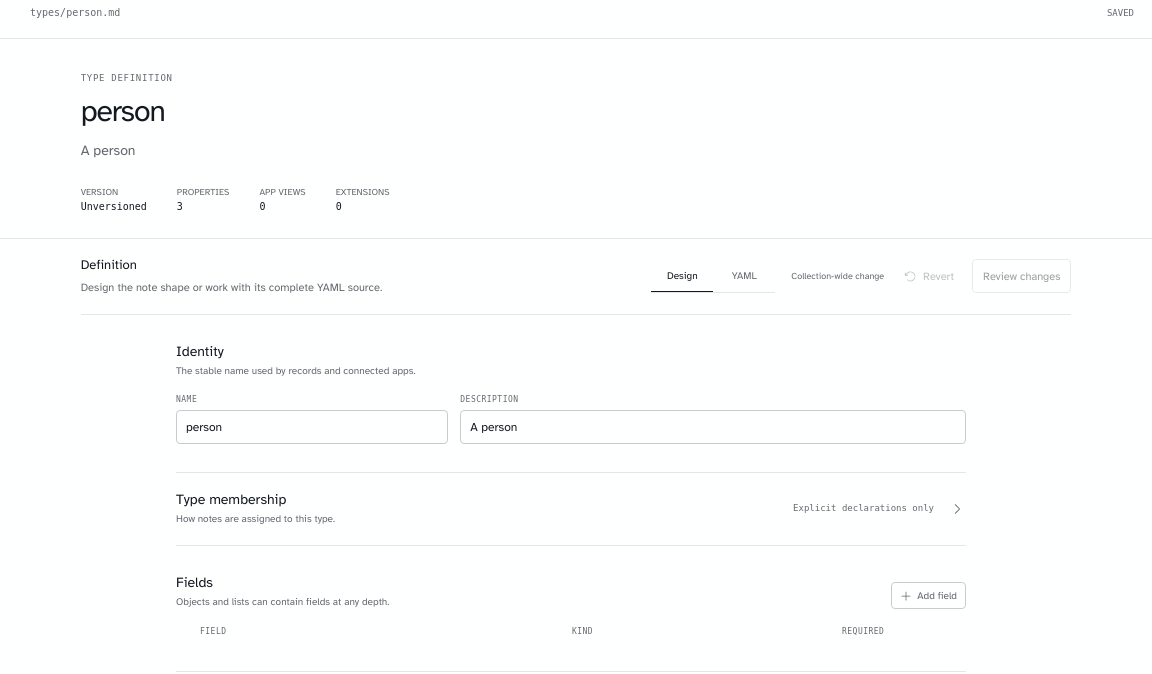
Test: recursive type builder › previews membership changes as visual rules are edited
Click the heading "Type membership" at (231, 499), box [176,491,964,525]
(page scrolled)
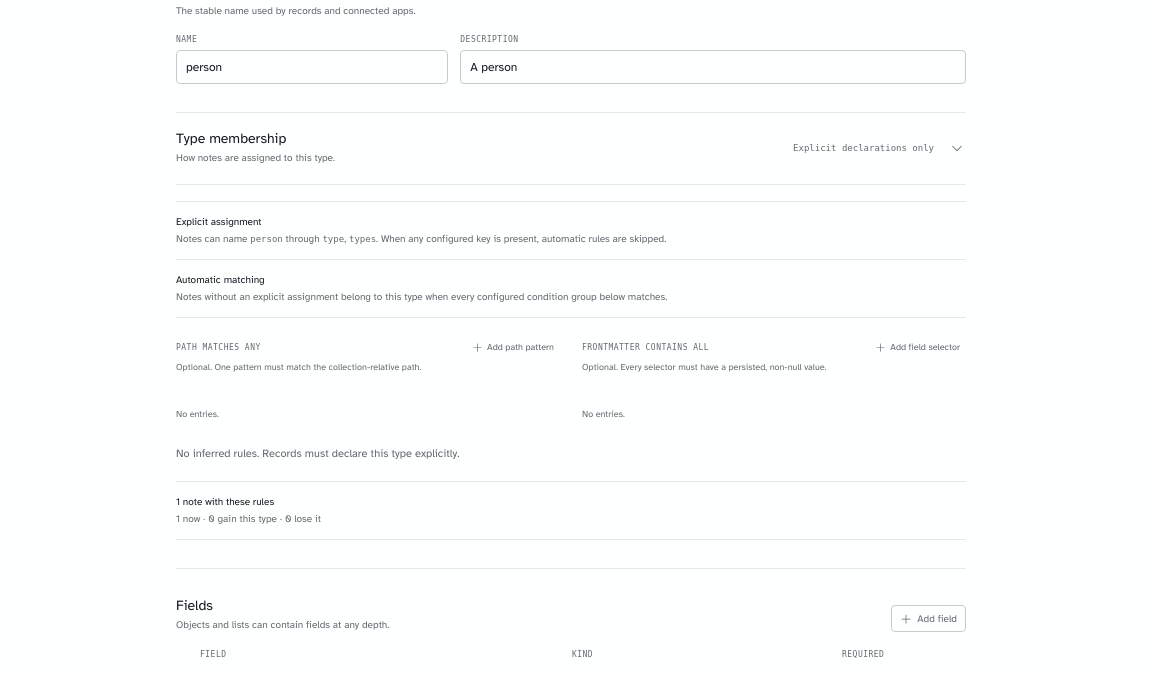
Result: the text "1 note with these rules" is shown at [176,495,274,508]
Click the button "Add path pattern" at (513, 347), box [466,340,560,354]
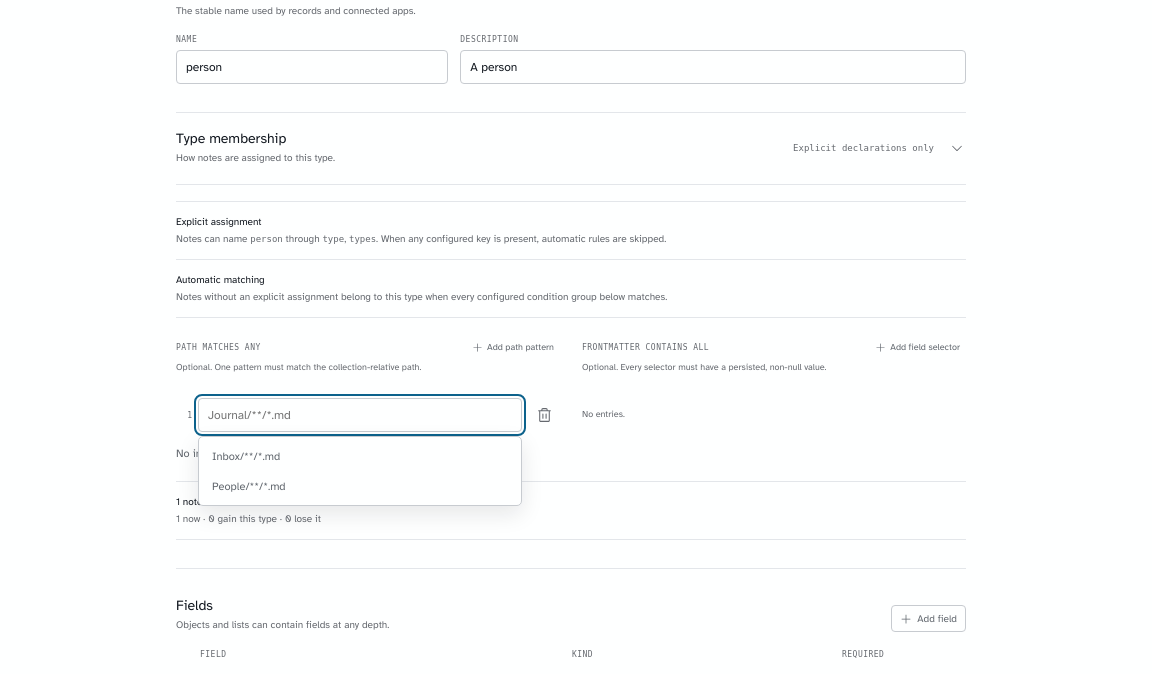
Type "People/**/*.md" into the dropdown named "Path pattern 1" at (360, 415), box [198,398,522,432]
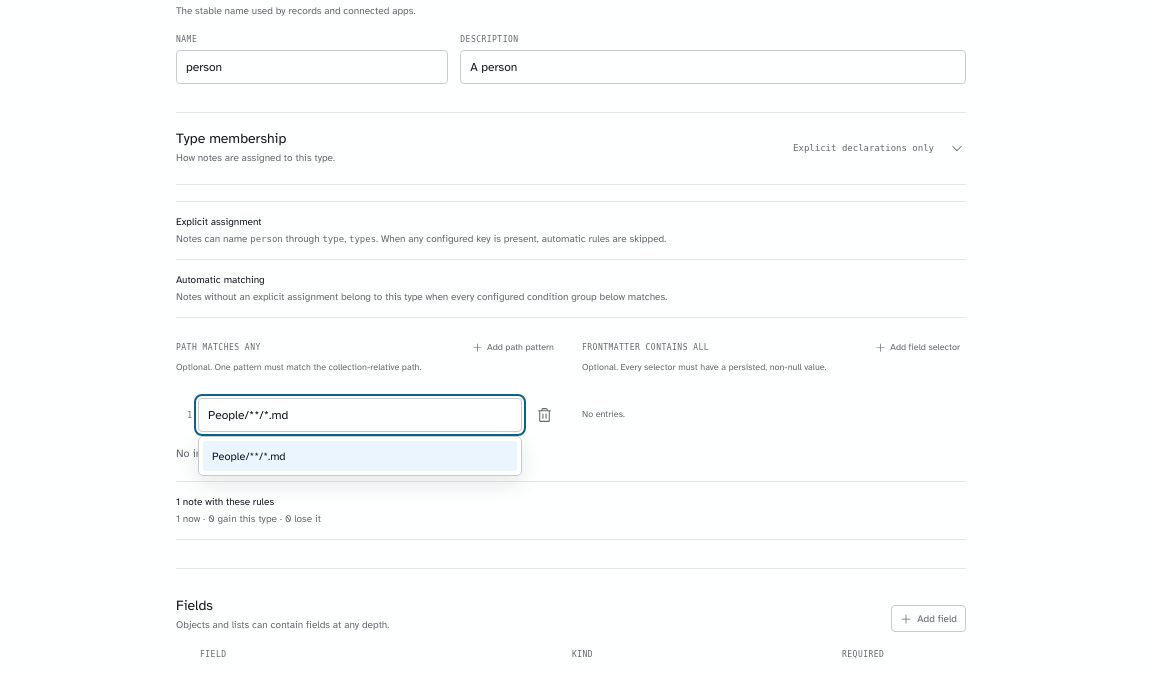
Press Tab
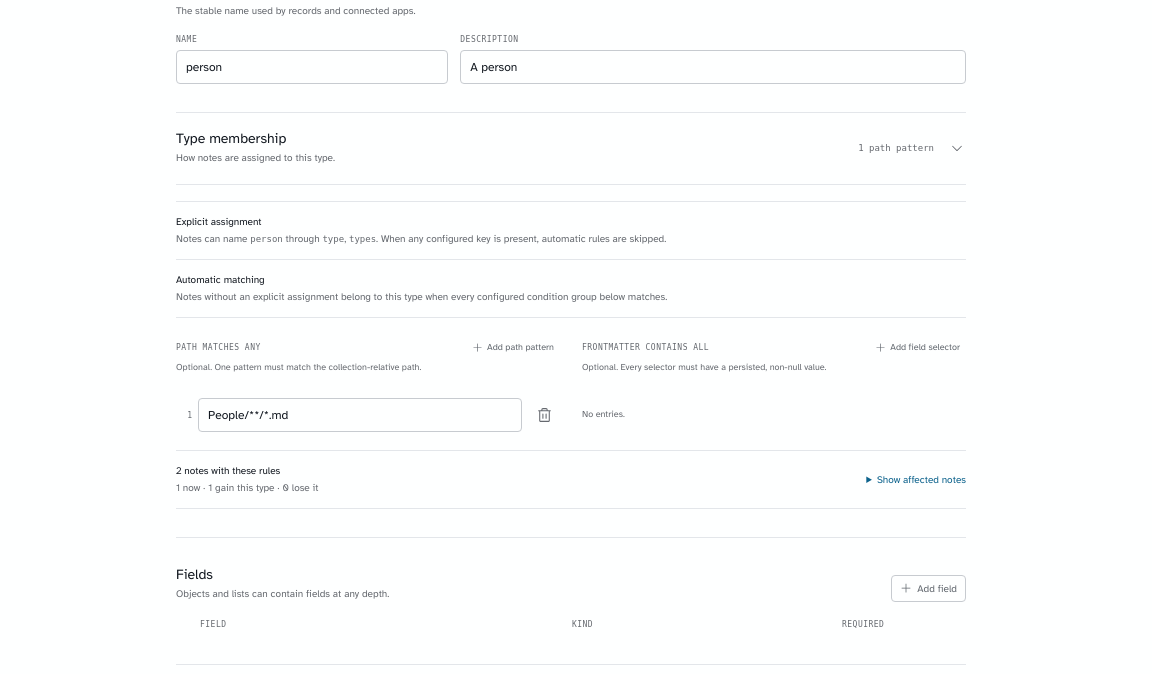
Result: the text "2 notes with these rules" is shown at [176,464,280,477]
Result: the text "1 now · 1 gain this type · 0 lose it" is shown at [176,481,319,494]
Click the heading "Show affected notes" at (916, 480), box [866,473,966,486]
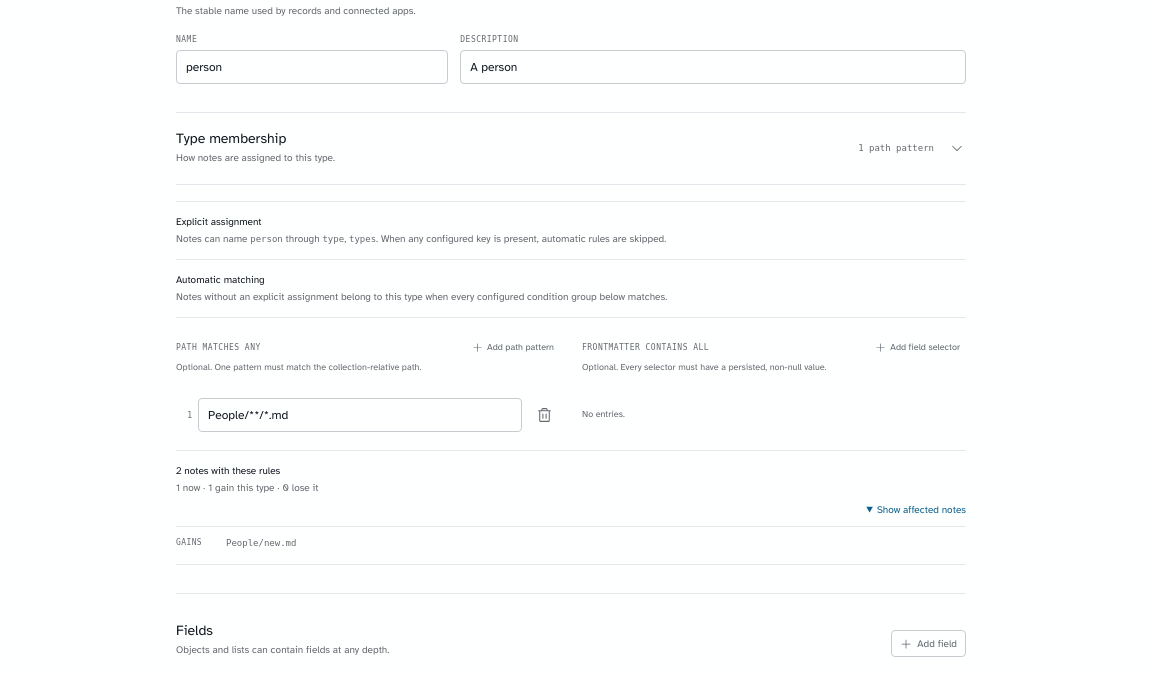
Result: the text "People/new.md" is shown at [226,538,296,548]
